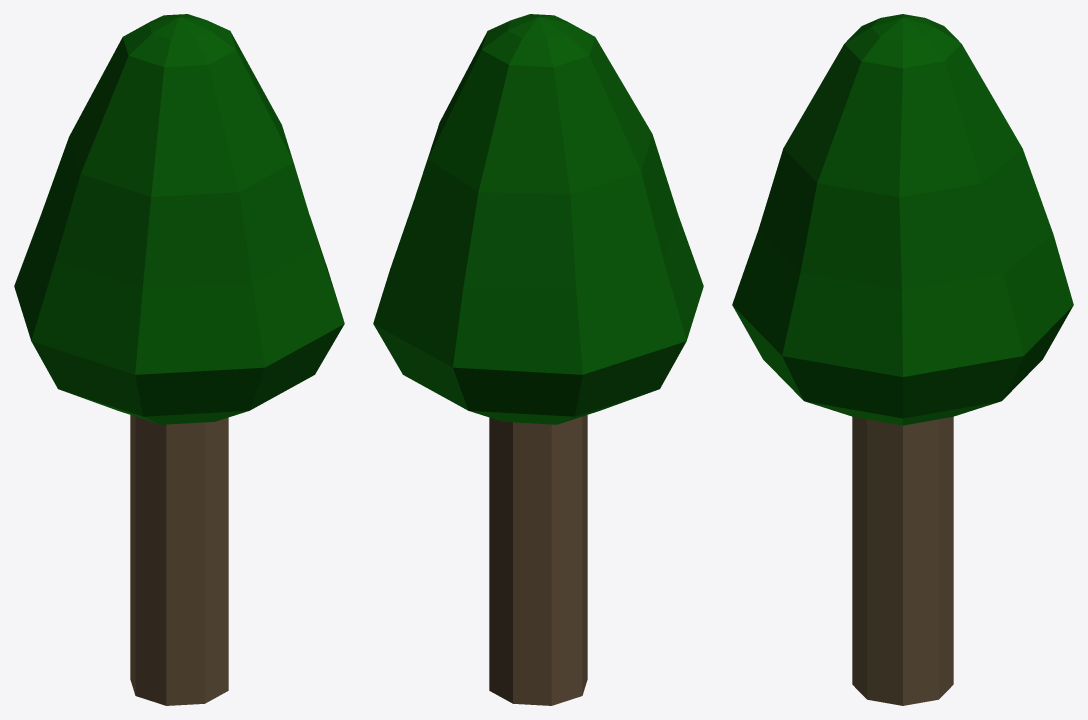
Rendered from Tree.fbx.
3 renders of one model, left to right at view 1: azimuth 30°, elevation 25°; view 2: azimuth 150°, elevation 25°; view 3: azimuth 270°, elevation 25°, orthographic.
Parts seen in each view (by area): view 1: pCylinder2; view 2: pCylinder2; view 3: pCylinder2.
Part boxes in pixels (<box>): pCylinder2: <box>14,14,344,705</box>; pCylinder2: <box>373,14,703,705</box>; pCylinder2: <box>732,14,1073,705</box>.
Size of the model in its own units: 6.74 by 14.51 by 6.74.
